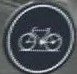bike lane: (6, 5, 70, 67)
